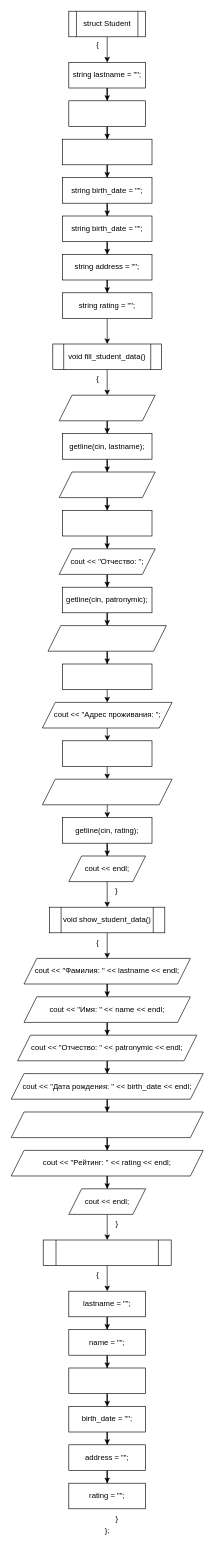
The diagram is 214 pixels wide and 1552 high, and some of its shapes have lost their labels. Here are the shapes that lost their labels. From the top down, the centre of each, then its label:
point 107,113: string name = "";
point 107,152: string patronymic = "";
point 107,408: cout << "Фамилия: ";
point 107,484: cout << "Имя: ";
point 107,523: getline(cin, name);
point 106,638: cout << "Дата рождения: ";
point 107,676: getline(cin, birth_date);
point 107,753: getline(cin, address);
point 107,792: cout << "Рейтинг: ";
point 107,1124: cout << "Адрес проживания: " << address << endl;
point 107,1252: void clear_student_data()
point 107,1380: patronymic = "";
